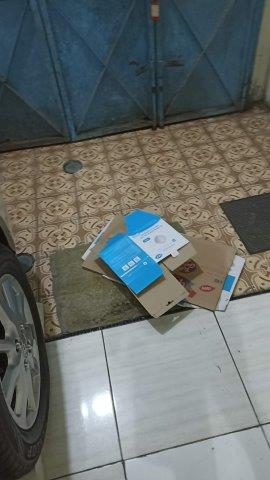kardus: (90, 211, 240, 312)
